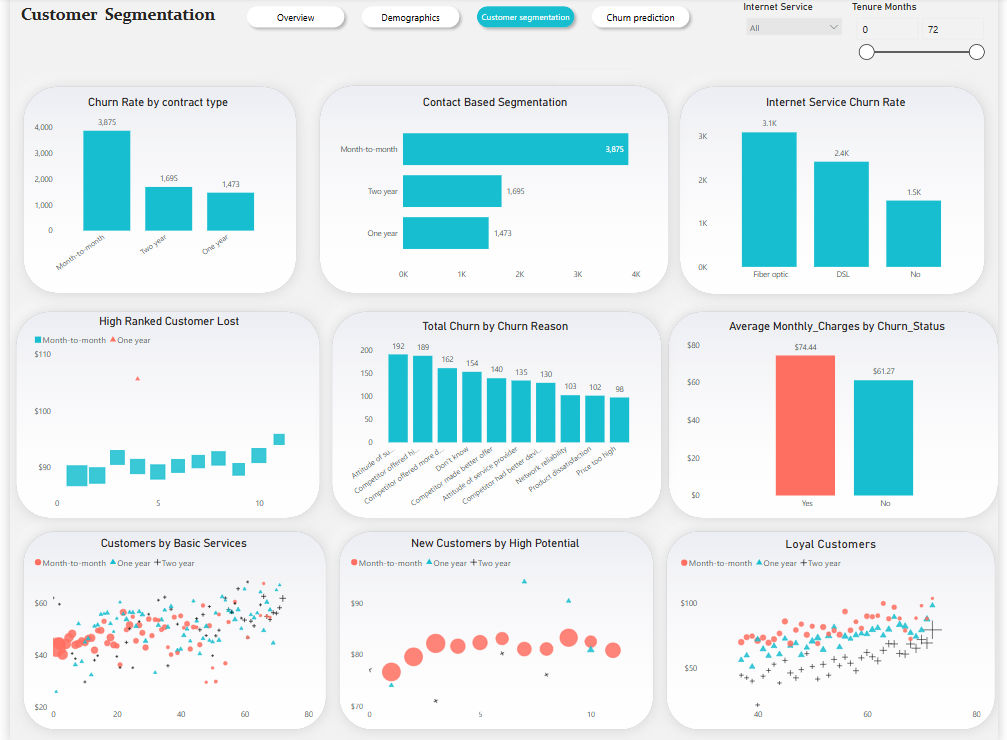

What the dashboard file says about the page in this screenshot:
{"tool":"powerbi","page":{"name":"Customer segmentation","canvas":[1580,1200],"ordinal":2},"visuals":[{"type":"columnChart","title":"Churn Rate by contract type","fields":{"Category":["churn_rate_by_contract_type.contract"],"Y":["telco_churn.Total Customer"]},"box":[34.4,163.3,405.6,304.4],"z":0},{"type":"columnChart","title":"Total Churn by Churn Reason","fields":{"Category":["churn_reason.churn_reason"],"Y":["Sum(churn_reason.count_reason)"]},"box":[540,522.2,472.2,312.2],"z":1000},{"type":"clusteredBarChart","title":"Contact Based Segmentation","fields":{"Category":["contract_based_segmentation.contract"],"Y":["telco_churn.Total Customer"]},"box":[515.6,163.3,520,304.4],"z":2000},{"type":"scatterChart","title":"Customers by Basic Services","fields":{"X":["customers_with_basic_services.tenure_months"],"Y":["Avg(customers_with_basic_services.monthly_charges)"],"Series":["customers_with_basic_services.contract"],"Size":["CountNonNull(customers_with_basic_services.customer_id)"]},"box":[34.4,870,455.6,302.2],"z":3000},{"type":"scatterChart","title":"High Ranked Customer Lost","fields":{"X":["high_value_customers_at_risk.tenure_months"],"Y":["Avg(high_value_customers_at_risk.monthly_charges)"],"Series":["high_value_customers_at_risk.contract"],"Size":["CountNonNull(high_value_customers_at_risk.customer_id)"]},"box":[34.4,514.4,441.1,320],"z":4000},{"type":"columnChart","title":"Internet Service Churn Rate","fields":{"Category":["internet_service_churn_rate.internet_service"],"Y":["Sum(internet_service_churn_rate.total_customers)"]},"box":[1095.6,163.3,450,304.4],"z":5000},{"type":"scatterChart","title":"Loyal Customers","fields":{"X":["loyal_customers.tenure_months"],"Y":["Avg(loyal_customers.monthly_charges)"],"Series":["loyal_customers.contract"],"Size":["CountNonNull(loyal_customers.customer_id)"]},"box":[1068.9,870,490,302.2],"z":6000},{"type":"scatterChart","title":"New Customers by High Potential","fields":{"X":["new_customers_high_potential.tenure_months"],"Y":["Avg(new_customers_high_potential.monthly_charges)"],"Series":["new_customers_high_potential.contract"],"Size":["CountNonNull(new_customers_high_potential.customer_id)"]},"box":[540,870,472,302],"z":7000},{"type":"columnChart","title":"Average Monthly_Charges by Churn_Status","fields":{"Category":["avg_monthly_charges_by_churn_label.churn_label"],"Y":["Avg(avg_monthly_charges_by_churn_label.avg_monthly_charges)"]},"box":[1077.8,522.2,490,312.2],"z":8000},{"type":"textbox","box":[11.4,11.4,400,58.6],"z":9000},{"type":"pageNavigator","box":[414.3,11.4,751.4,52.9],"z":10000},{"type":"slicer","title":"Internet Service","fields":{"Values":["telco_churn.internet_service"]},"box":[1168.6,12.9,172.9,100],"z":11000},{"type":"slicer","title":"Tenure Months","fields":{"Values":["telco_churn.tenure_months"]},"box":[1341.4,12.9,225.7,100],"z":12000}]}

Visuals, with their boxes on the page's 1580x1200 design canvas (x1, y1, x2, y2). These are canvas units, not pixel positions in the 1007x740 screenshot, which may show the page scaled, cropped or inside an application window:
"Churn Rate by contract type" columnChart: (34, 163, 440, 468)
"Total Churn by Churn Reason" columnChart: (540, 522, 1012, 834)
"Contact Based Segmentation" clusteredBarChart: (516, 163, 1036, 468)
"Customers by Basic Services" scatterChart: (34, 870, 490, 1172)
"High Ranked Customer Lost" scatterChart: (34, 514, 476, 834)
"Internet Service Churn Rate" columnChart: (1096, 163, 1546, 468)
"Loyal Customers" scatterChart: (1069, 870, 1559, 1172)
"New Customers by High Potential" scatterChart: (540, 870, 1012, 1172)
"Average Monthly_Charges by Churn_Status" columnChart: (1078, 522, 1568, 834)
textbox: (11, 11, 411, 70)
pageNavigator: (414, 11, 1166, 64)
"Internet Service" slicer: (1169, 13, 1342, 113)
"Tenure Months" slicer: (1341, 13, 1567, 113)
